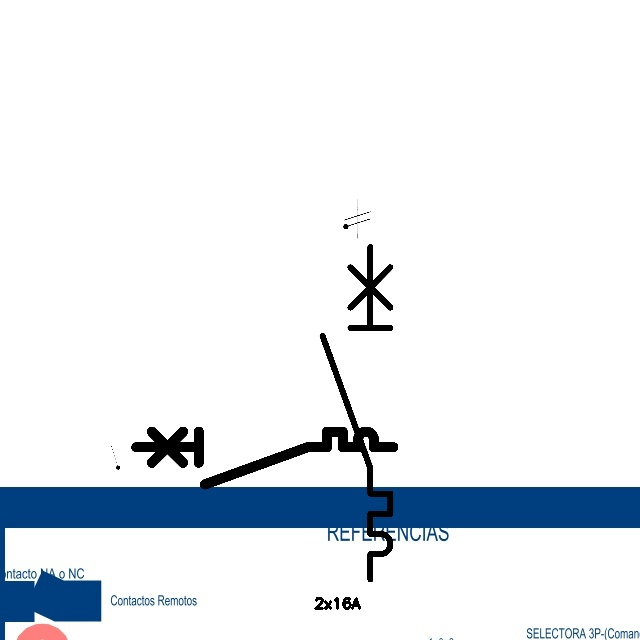interruptor_termomagnetico: (314, 238, 399, 587), (129, 425, 400, 491)
